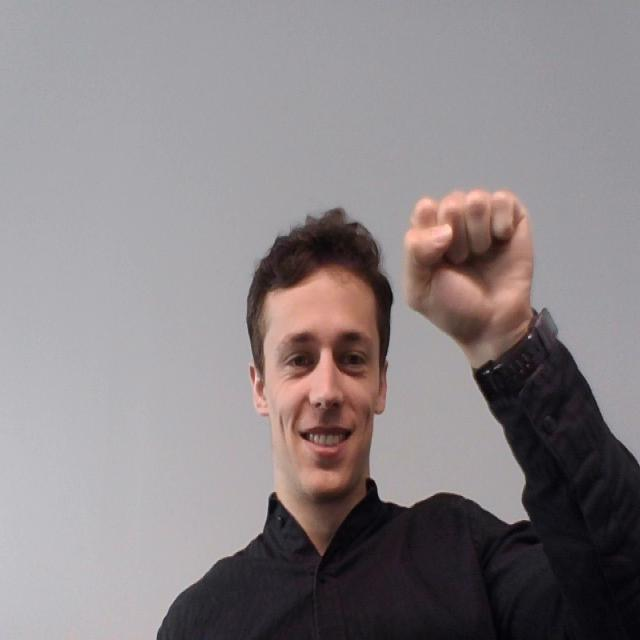stop: (392, 180, 542, 344)
